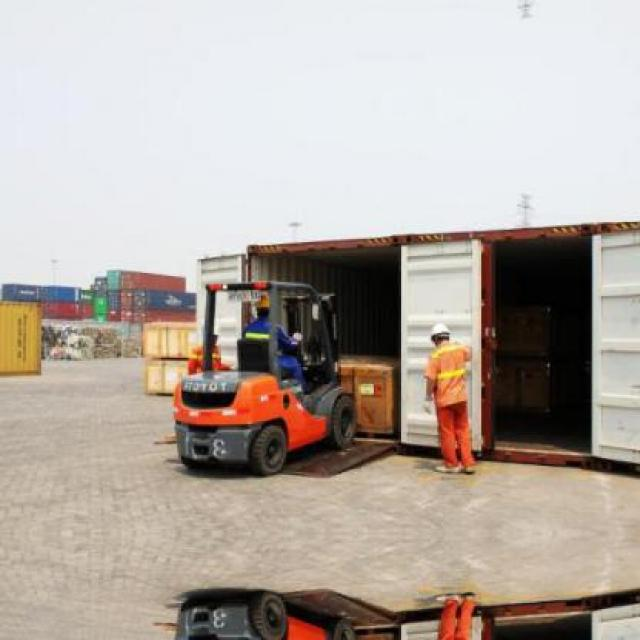Reflective-Jacket: (424, 342, 474, 412), (239, 318, 283, 354)
Safety-Helmet: (428, 319, 454, 341)
